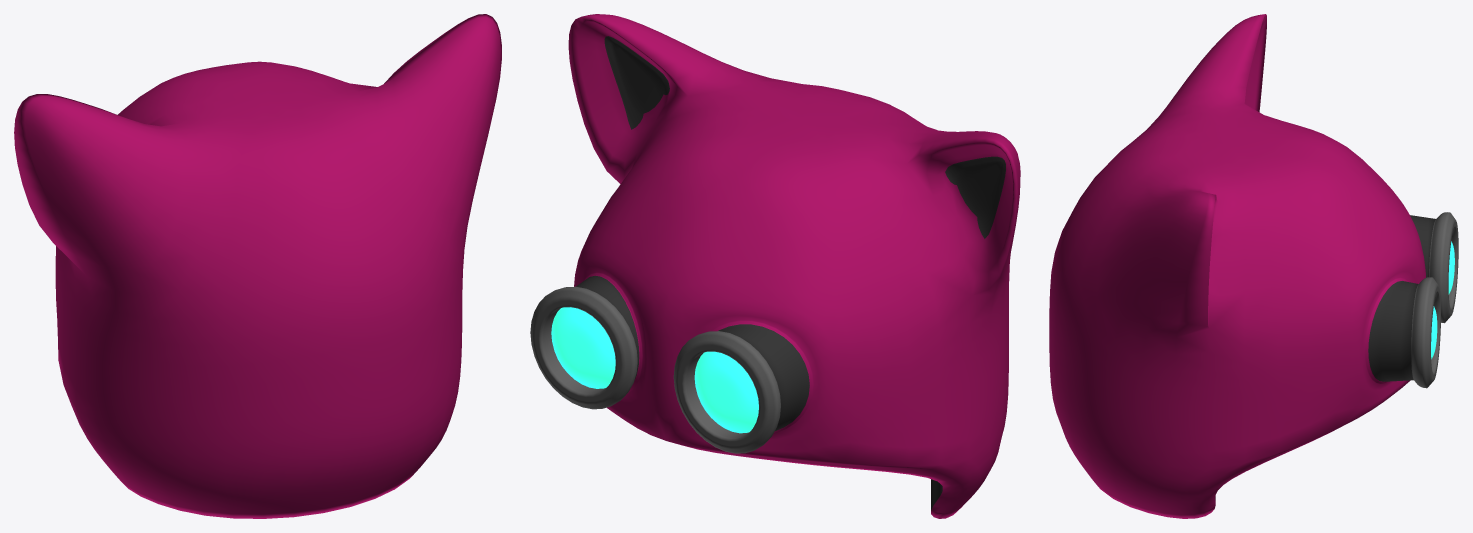
Rendered from robot1.glb.
3 renders of one model, left to right at view 1: azimuth 30°, elevation 25°; view 2: azimuth 150°, elevation 25°; view 3: azimuth 270°, elevation 25°, orthographic. The views are drawn at different scales.
Parts seen in each view (by area): view 1: An Robot.003; view 2: An Robot.003; view 3: An Robot.003.
Boxes of the visible parts, x1,y1,x2,y2 form: An Robot.003: [14, 14, 501, 518]; An Robot.003: [530, 14, 1020, 518]; An Robot.003: [1049, 14, 1458, 518].
Size of the model in its own units: 0.3983 by 0.328 by 0.3421.
